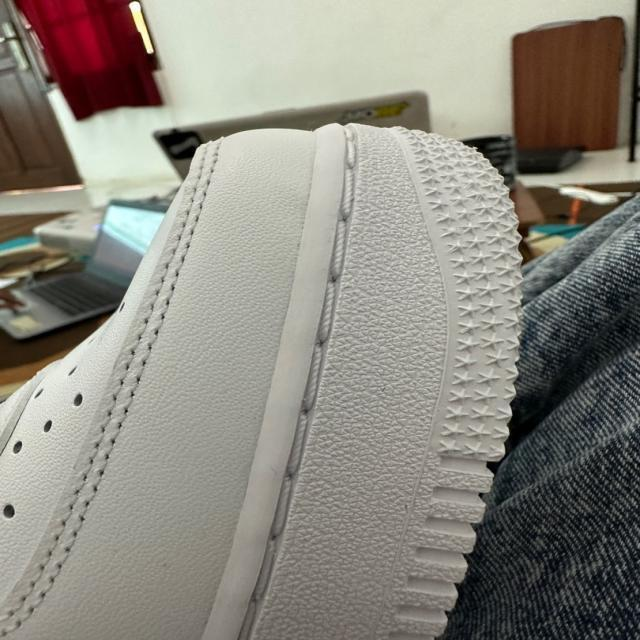nike original air force: (0, 120, 525, 640)
